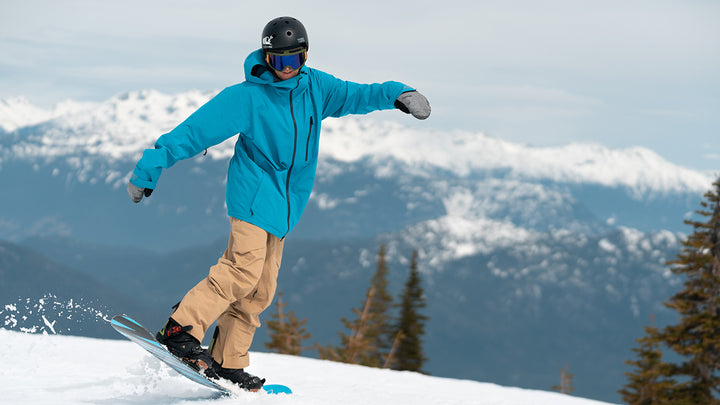snowboarder: (105, 14, 430, 393)
